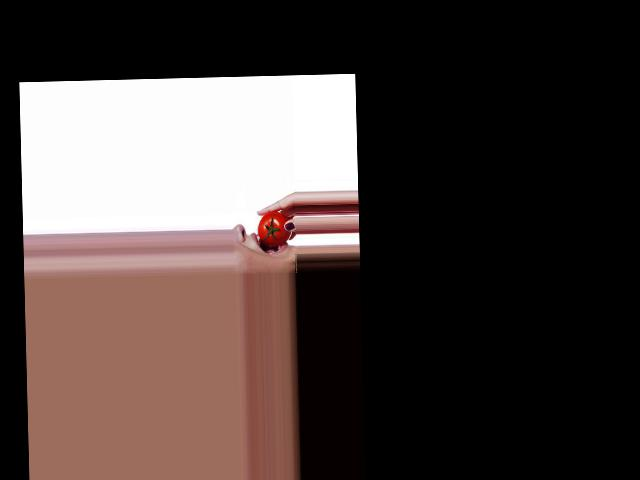tomato: (257, 210, 292, 246)
